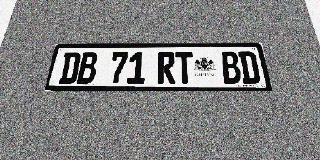1: (127, 52, 146, 84)
7: (108, 52, 128, 84)
B: (220, 51, 242, 84), (76, 52, 98, 84)
D: (238, 51, 261, 84), (58, 52, 81, 84)
R: (157, 52, 175, 84)
T: (175, 52, 194, 84)
